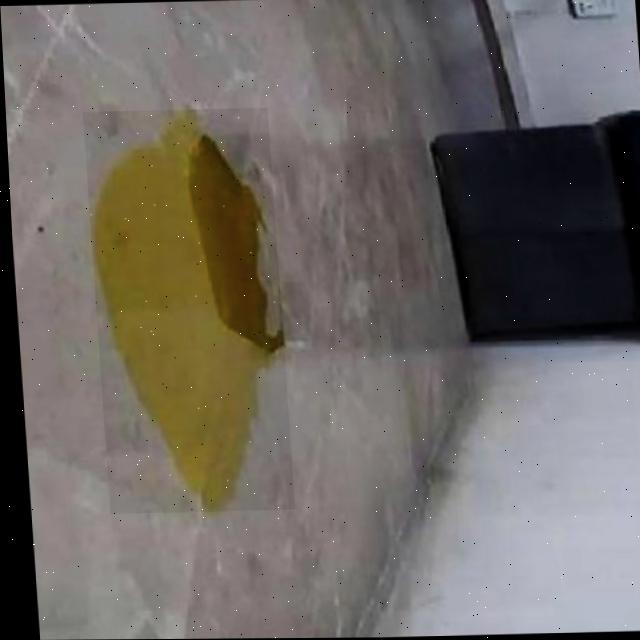spillage: (87, 110, 278, 510)
